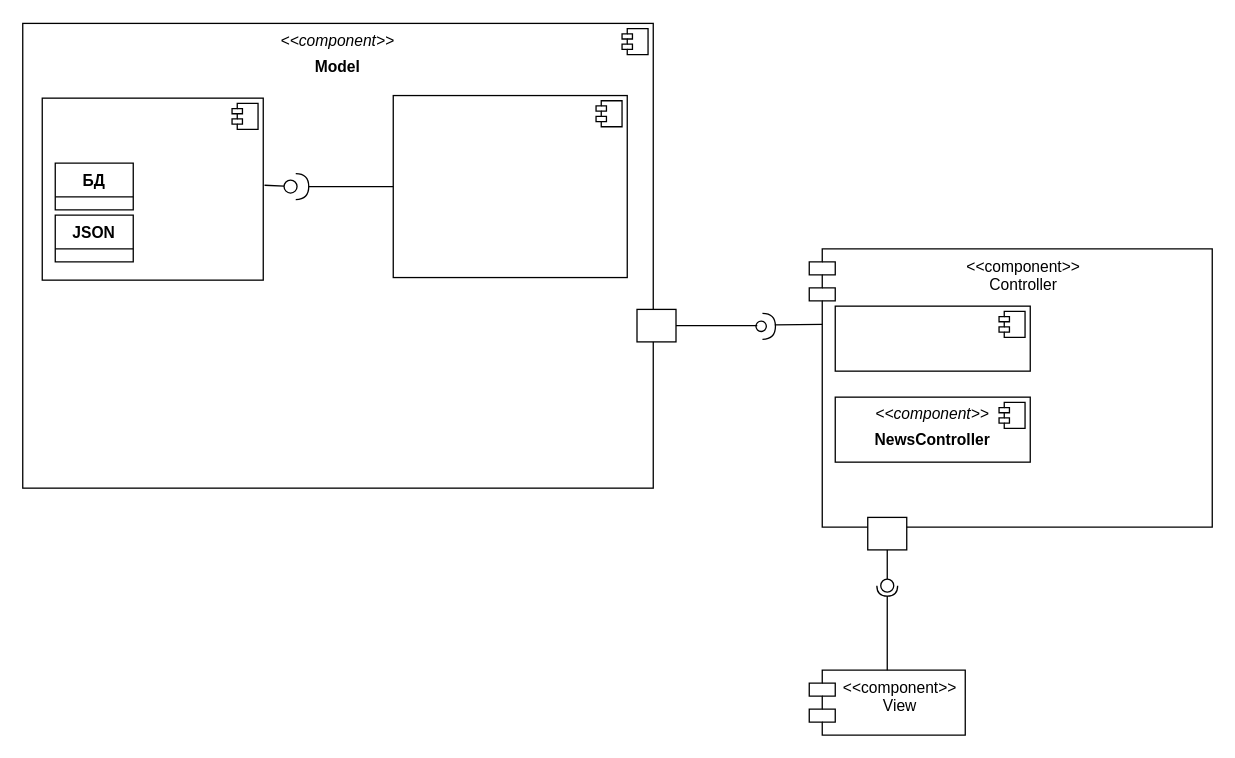
This 1235x758 diagram has some shape labels left out. The box of each missing label's shape, as (x1, y1, x2, y2) in pixels:
<<component>> CategoryController: (834, 305, 1030, 371)
<<component>> DAO: (392, 94, 627, 278)
<<component>> Provider: (41, 97, 263, 280)
